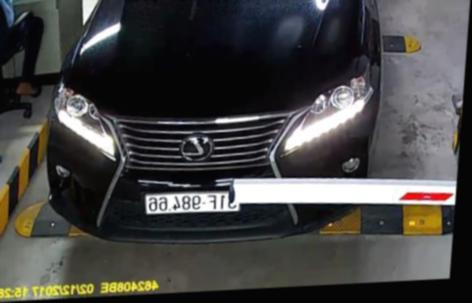License_Plate: (142, 186, 242, 220)
